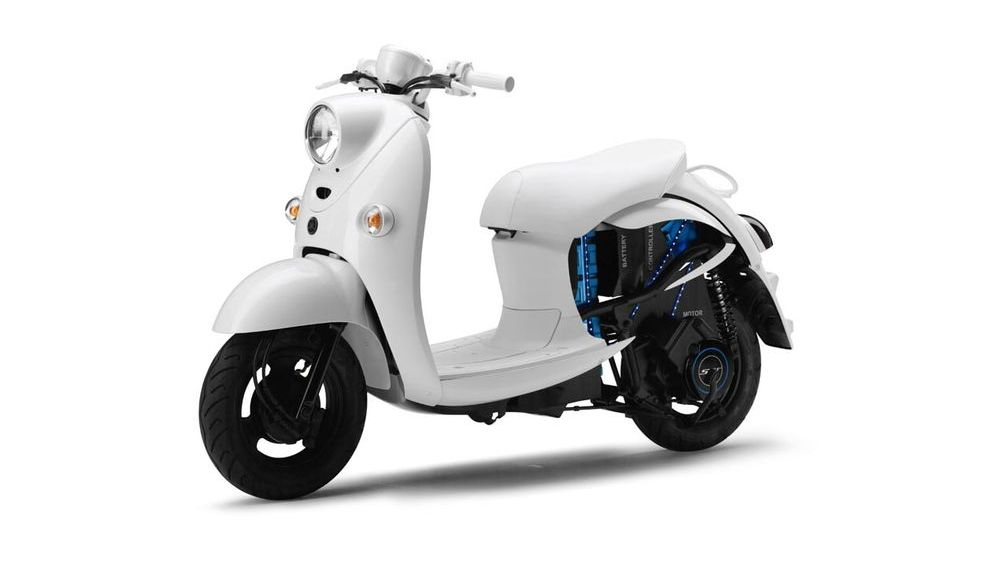motorcycle: (203, 33, 790, 503)
